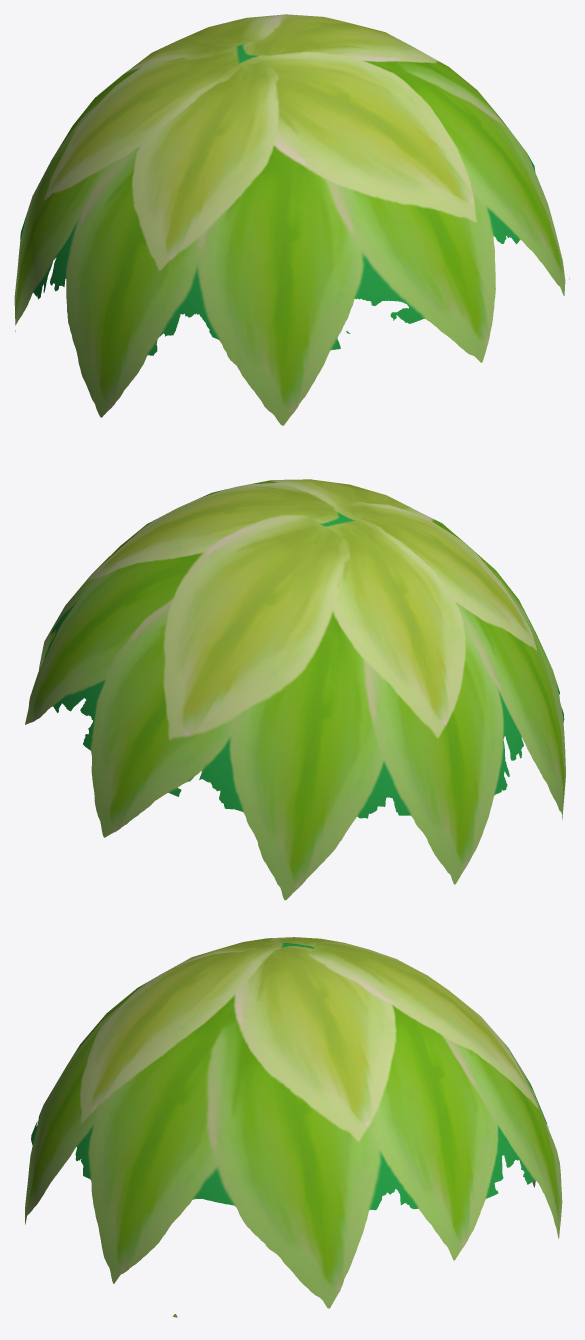
Rendered from Bush_Leaves_1.fbx.
The picture shows the model from 3 angles, top to bottom: view 1: azimuth 30°, elevation 25°; view 2: azimuth 150°, elevation 25°; view 3: azimuth 270°, elevation 25°; orthographic projection.
Parts seen in each view (by area): view 1: pSphere3; view 2: pSphere3; view 3: pSphere3.
Part boxes in pixels (<box>): pSphere3: <box>14,14,569,425</box>; pSphere3: <box>25,479,565,900</box>; pSphere3: <box>25,937,562,1317</box>.
Size of the model in its own units: 83.49 by 49.82 by 83.73.
